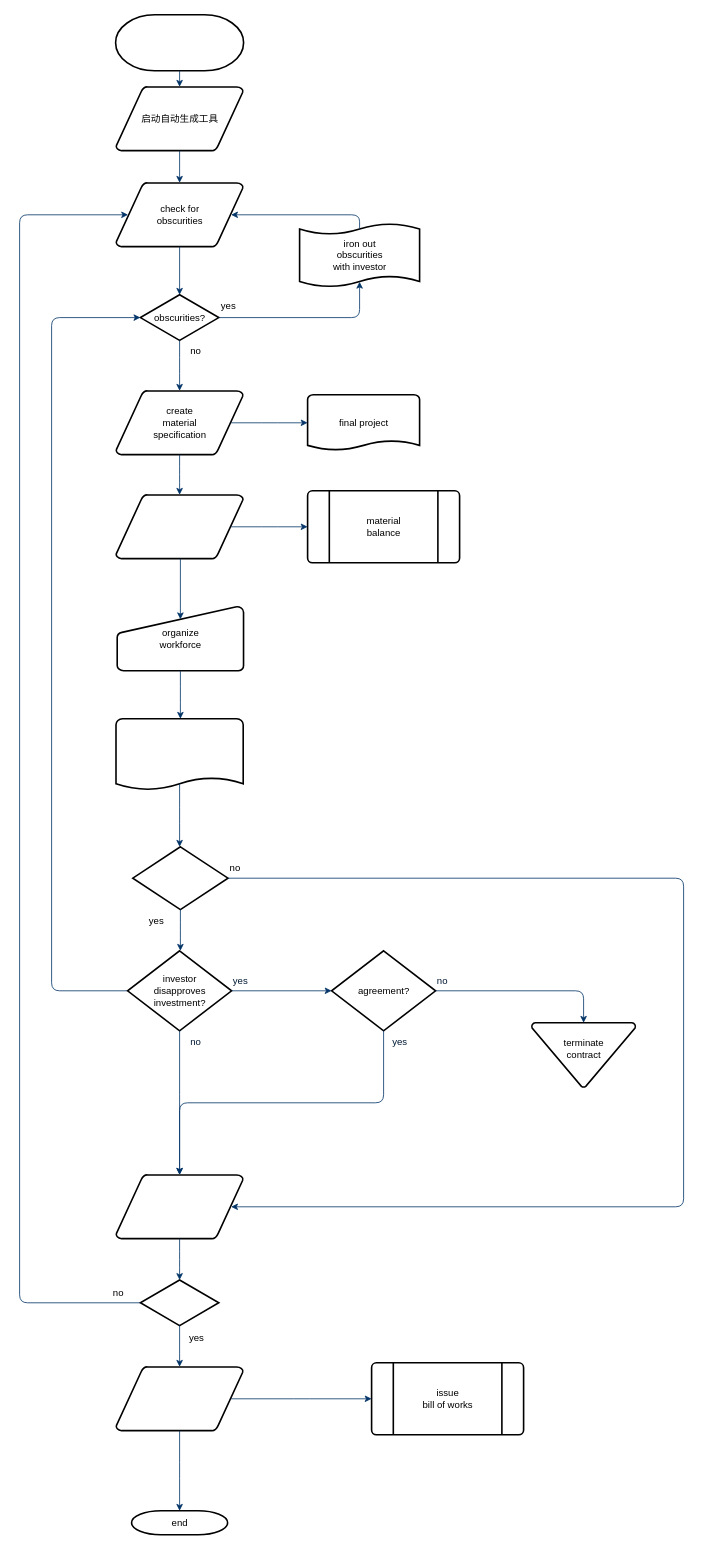
Image size: 704x1549. Some labels were removed from this diagram. Each missing label, with the box of its shape:
create final report: (115, 1366, 244, 1431)
create Gantt diagram: (115, 718, 244, 791)
create status report: (115, 1174, 244, 1239)
late project changes?: (132, 846, 228, 910)
order material: (115, 494, 244, 559)
project complete?: (139, 1279, 219, 1326)
搭建数字孪生场景: (114, 14, 244, 71)
